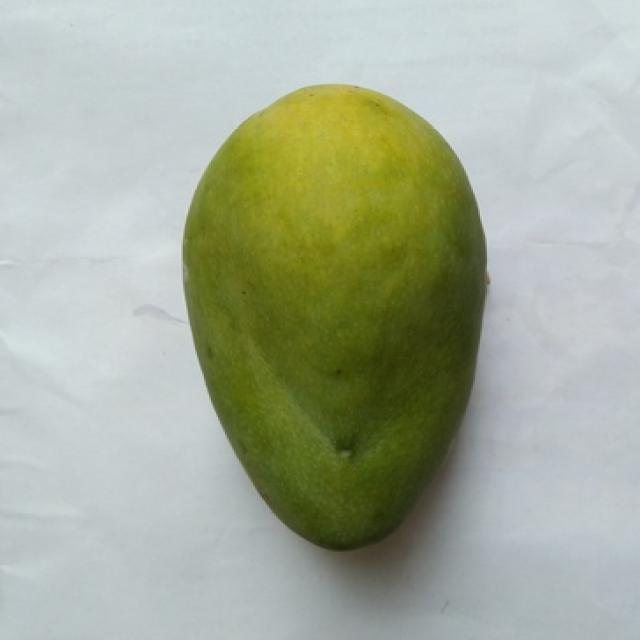Mango: (183, 85, 485, 549)
